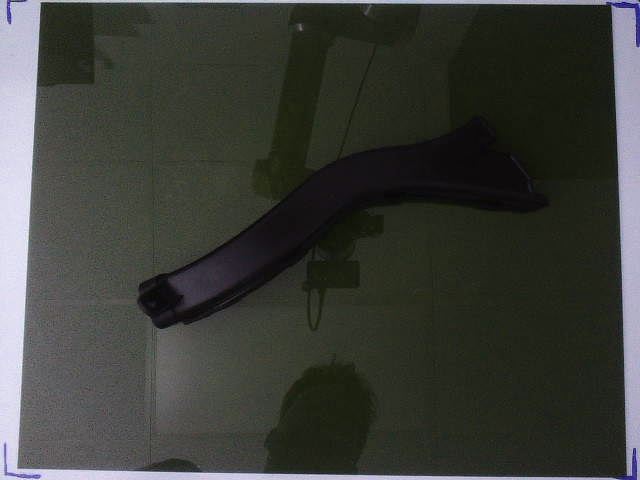887_B-Top: (137, 115, 549, 329)
